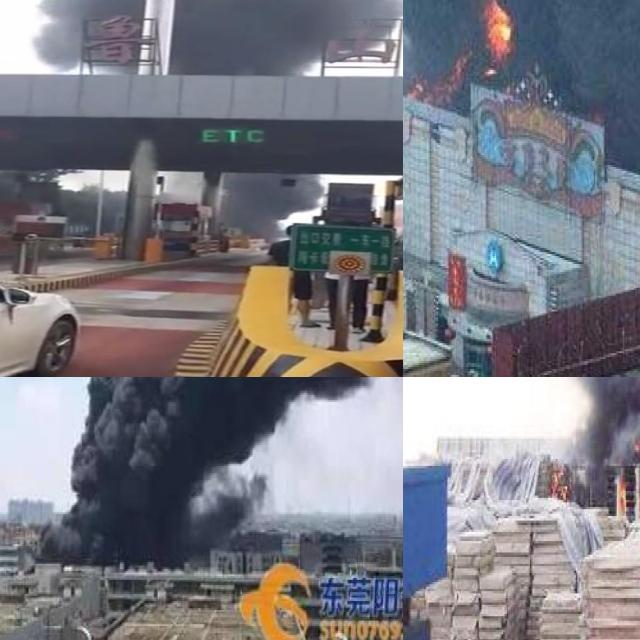fire: (480, 0, 512, 55), (548, 459, 568, 496)
smoke: (43, 377, 403, 562), (403, 0, 640, 178), (35, 0, 403, 67), (219, 172, 318, 226)
